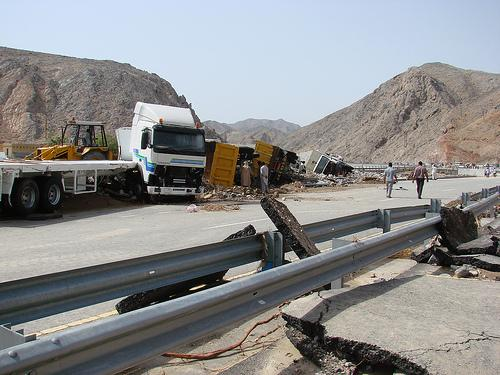truck: (92, 101, 207, 205), (0, 139, 141, 218), (203, 134, 259, 196), (246, 139, 300, 189)
